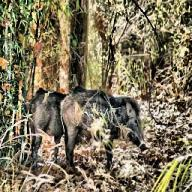boar: (60, 86, 148, 170), (26, 86, 67, 169)
